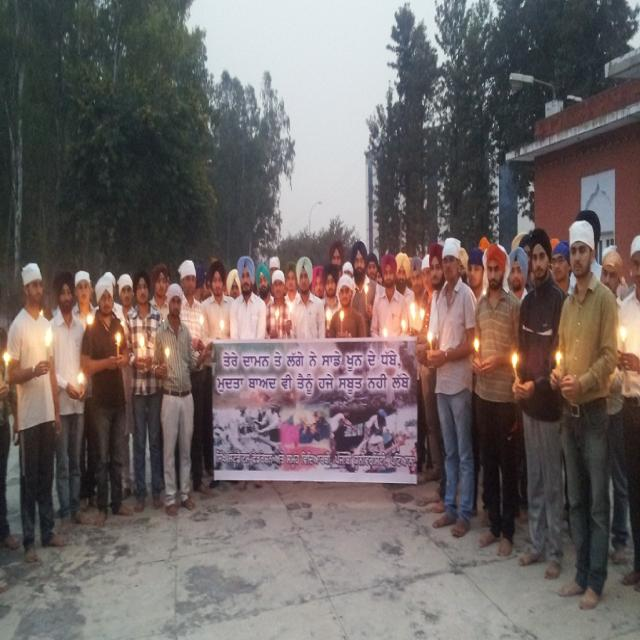body: (548, 215, 620, 612), (510, 223, 570, 581), (5, 259, 67, 565), (424, 235, 479, 539), (470, 241, 522, 559), (150, 282, 213, 518), (78, 273, 136, 528), (48, 269, 92, 537), (599, 248, 631, 568), (124, 270, 166, 511), (613, 235, 640, 586), (176, 258, 212, 498), (413, 241, 447, 491), (198, 260, 236, 481), (445, 242, 479, 471), (71, 270, 98, 510), (114, 271, 141, 500), (0, 326, 20, 552), (414, 252, 434, 470), (370, 250, 409, 339), (567, 207, 604, 300), (228, 254, 268, 340), (289, 254, 327, 338), (348, 240, 378, 338), (328, 272, 366, 339), (266, 268, 294, 339), (406, 254, 426, 336), (511, 230, 535, 294), (321, 263, 341, 339), (550, 238, 576, 295), (91, 269, 122, 316), (148, 261, 170, 323), (395, 250, 416, 306), (466, 247, 486, 304), (283, 261, 303, 314), (268, 256, 289, 298), (254, 262, 274, 306), (194, 267, 212, 302), (225, 267, 243, 300), (310, 263, 326, 300), (330, 239, 344, 279), (364, 250, 380, 282), (546, 230, 560, 262), (478, 230, 490, 260), (220, 271, 229, 299), (374, 265, 384, 288)
